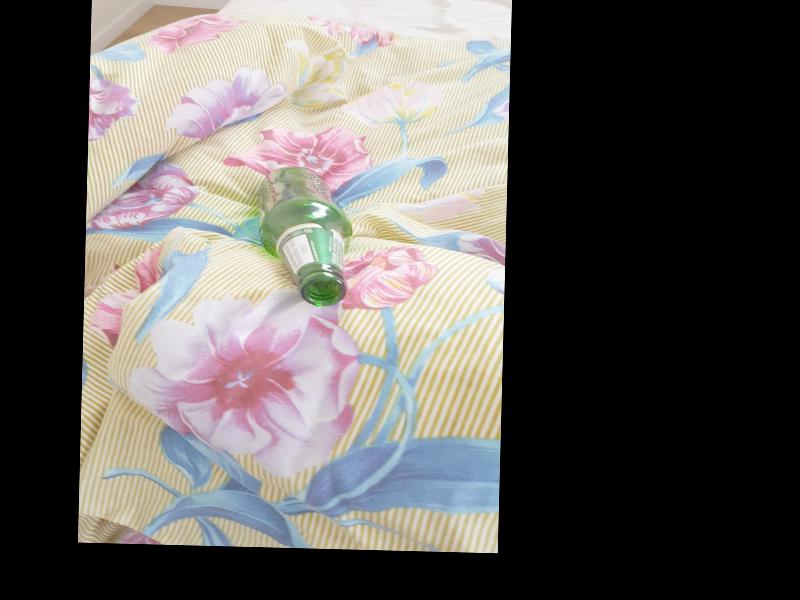Beer: (260, 166, 353, 306)
